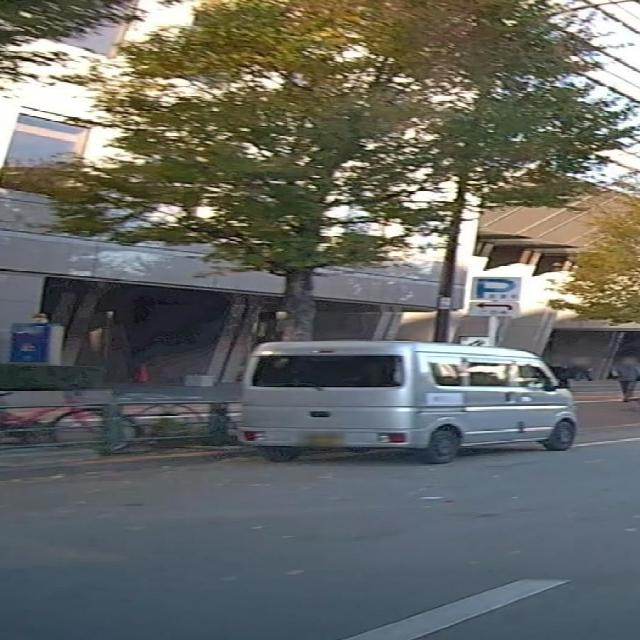maple: (0, 0, 640, 342)
